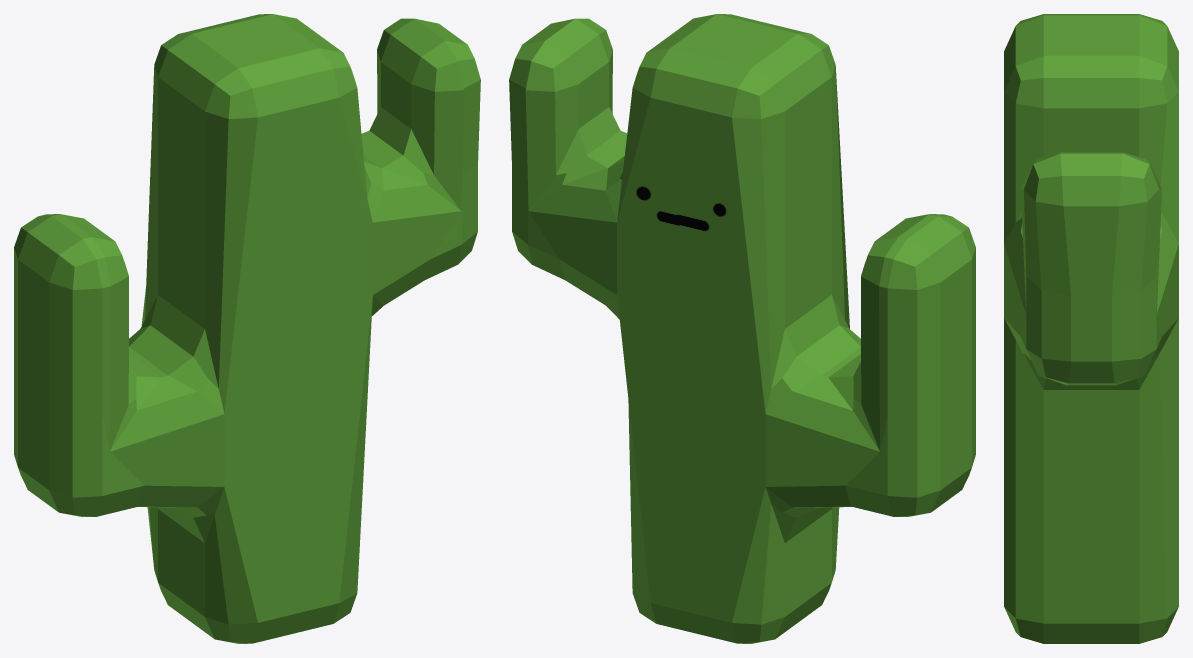
Rendered from Cactus.fbx.
3 renders of one model, left to right at view 1: azimuth 30°, elevation 25°; view 2: azimuth 150°, elevation 25°; view 3: azimuth 270°, elevation 25°, orthographic.
Parts seen in each view (by area): view 1: Cactus; view 2: Cactus; view 3: Cactus.
Boxes of the visible parts, bbox=[...] form: Cactus: bbox=[14, 14, 480, 643]; Cactus: bbox=[509, 14, 975, 643]; Cactus: bbox=[1004, 14, 1178, 643].
Size of the model in its own units: 2.86 by 3.66 by 0.9883.
